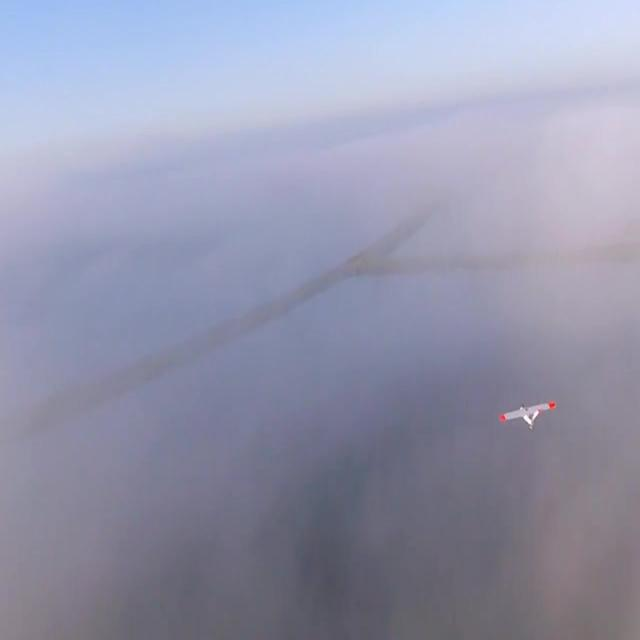iha: (498, 399, 556, 432)
